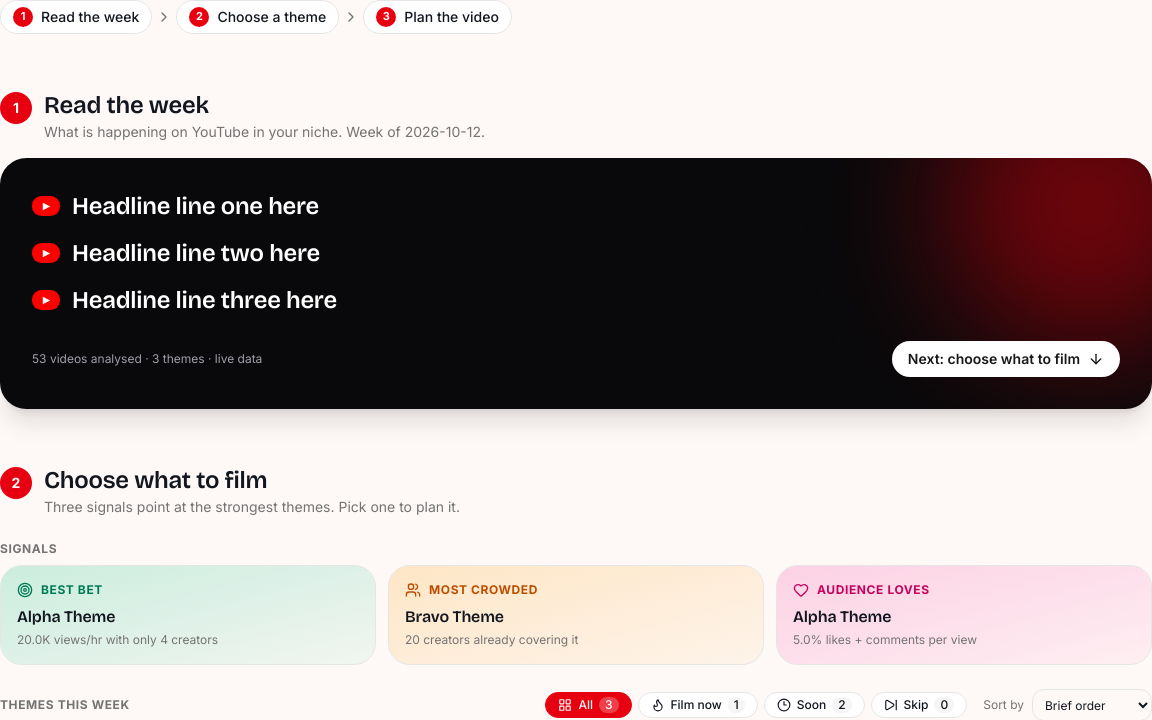
step 2: choosing a theme › says so when a filter has no themes
This screenshot has width=1152, height=720.
Click the button "Skip 0" at (919, 705), box x1=871 y1=692 x2=967 y2=718
(page scrolled)
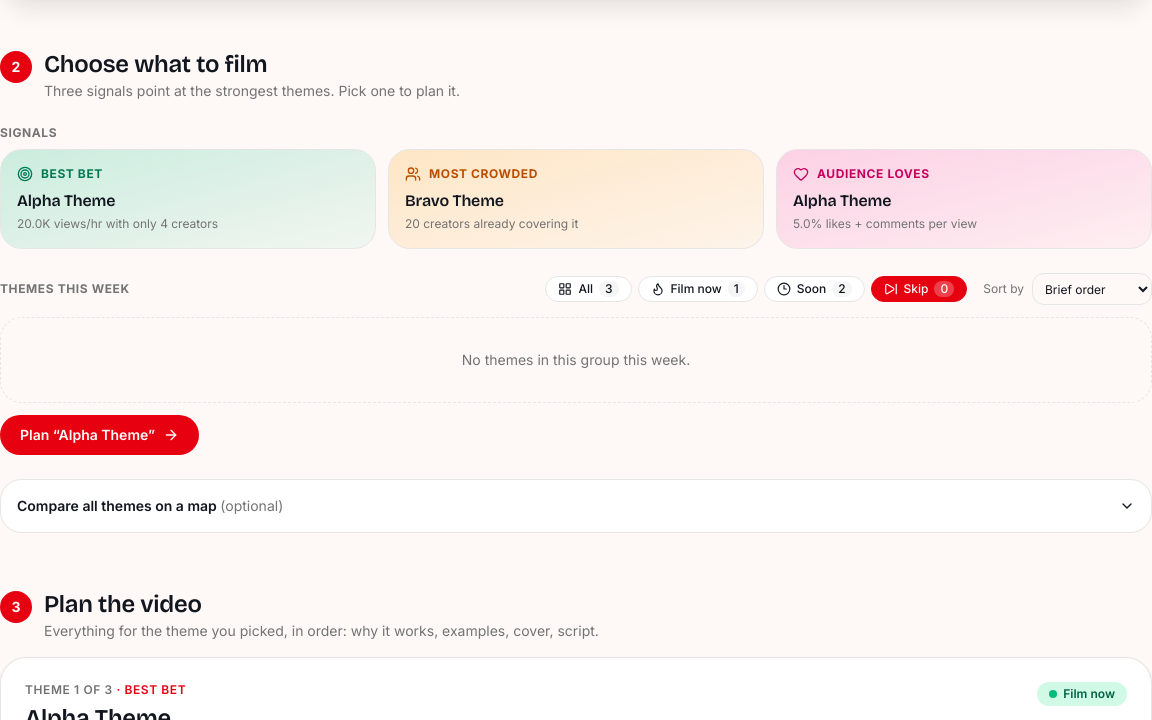
expect the text "No themes in this group this week." is shown: met, box x1=0 y1=317 x2=1151 y2=403
